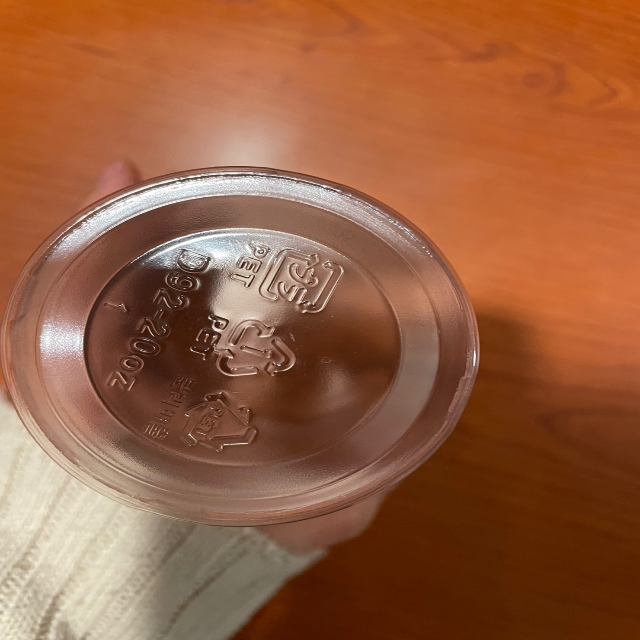pet: (142, 370, 268, 458), (231, 233, 342, 319), (190, 309, 301, 381)
